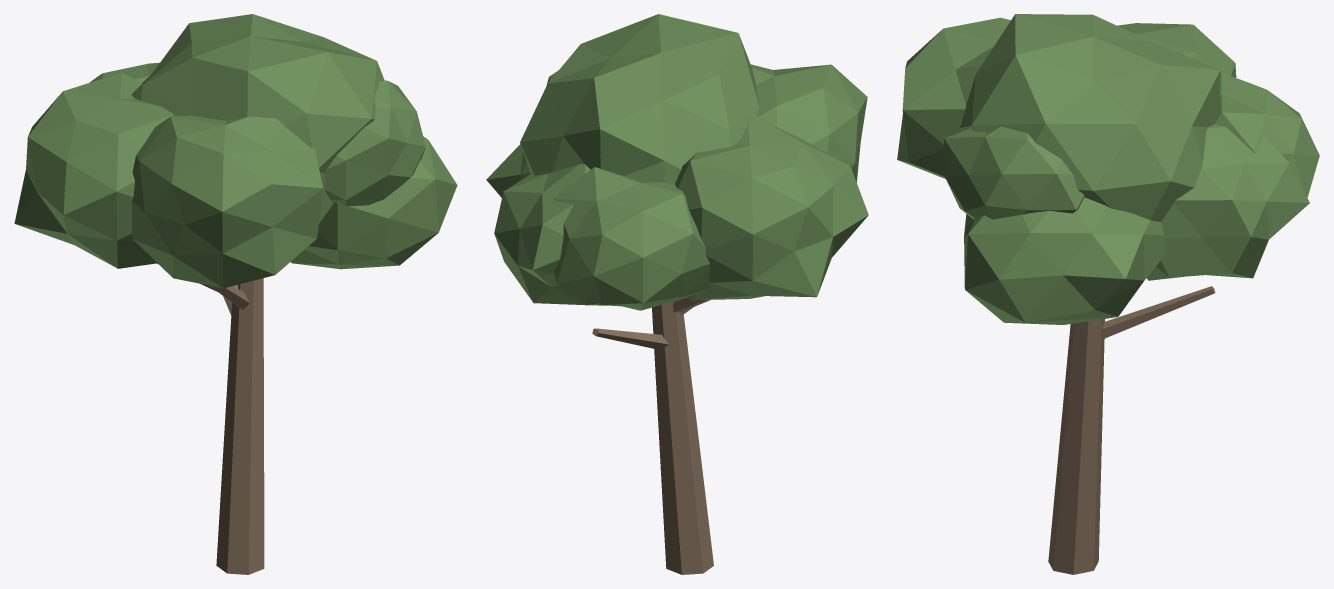
File: TreeBroad_B.gltf
3 renders of one model, left to right at view 1: azimuth 30°, elevation 25°; view 2: azimuth 150°, elevation 25°; view 3: azimuth 270°, elevation 25°, orthographic. The views are drawn at different scales.
Visible parts, largest first — view 1: TreeBroad_B; view 2: TreeBroad_B; view 3: TreeBroad_B.
Boxes of the visible parts, x1,y1,x2,y2 form: TreeBroad_B: (14,14,457,574); TreeBroad_B: (486,14,868,574); TreeBroad_B: (897,14,1319,574).
Size of the model in its own units: 6 by 8.28 by 5.89.
